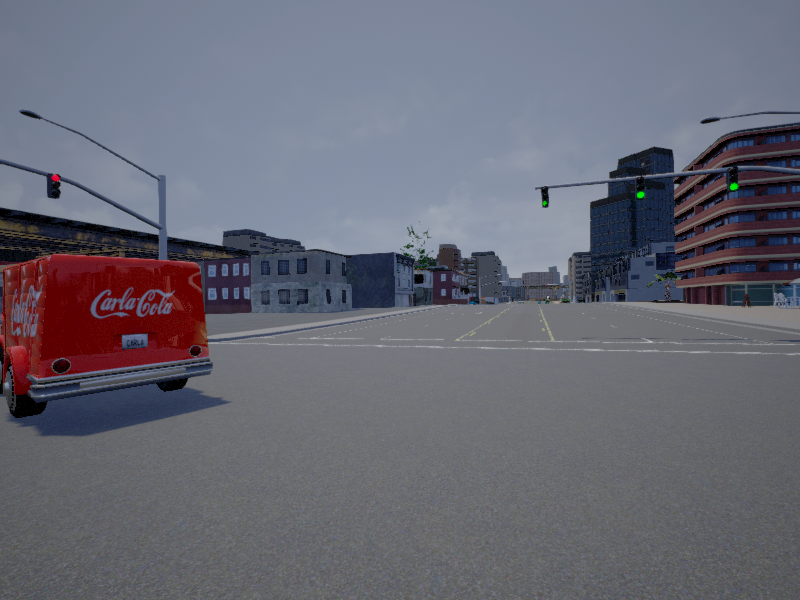Benign: (1, 256, 212, 416)
